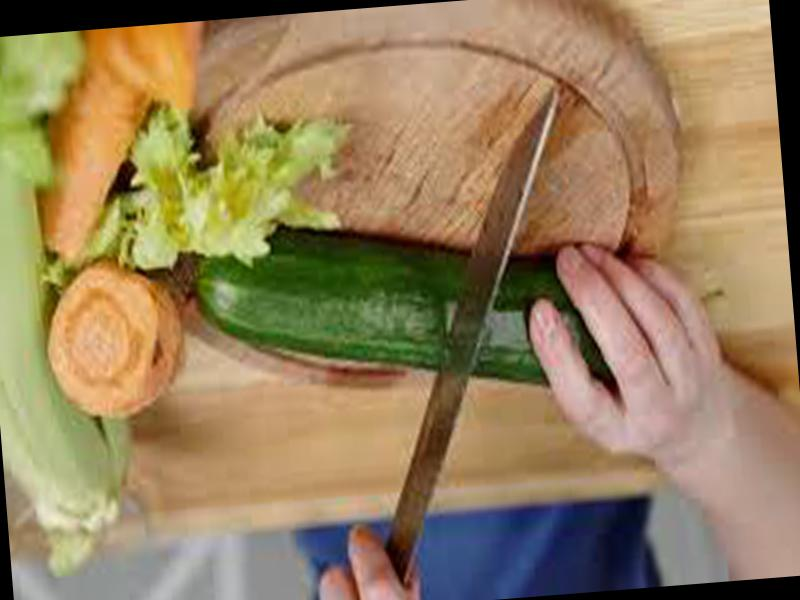Cucumber: (189, 211, 613, 414)
